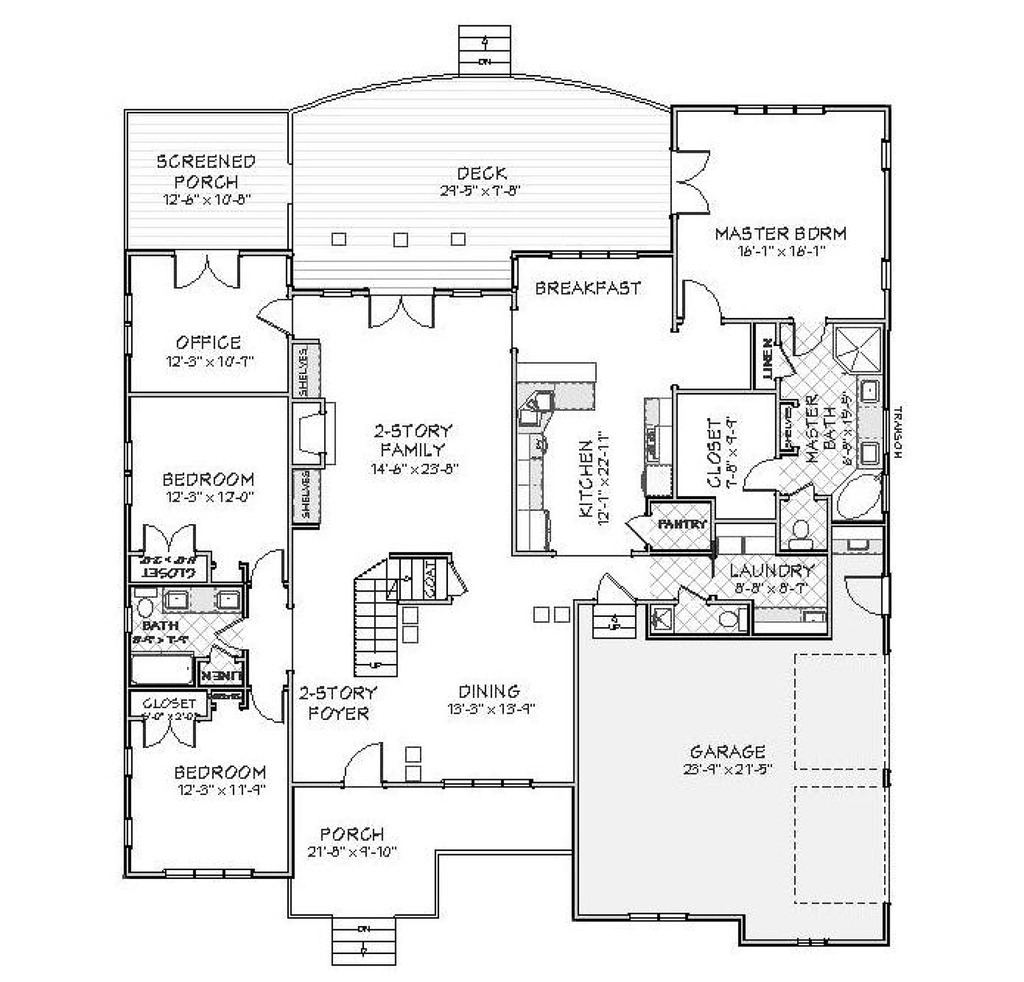door: (331, 729, 401, 796), (169, 239, 248, 298), (837, 569, 899, 621), (668, 150, 716, 215), (364, 288, 436, 331), (680, 274, 733, 330), (240, 682, 292, 733), (139, 518, 199, 562), (247, 540, 292, 596), (136, 712, 206, 746), (732, 458, 785, 499), (254, 294, 298, 343), (624, 505, 664, 557), (590, 572, 640, 605), (444, 558, 480, 602), (795, 311, 826, 358), (774, 341, 799, 382)
large_sink: (782, 520, 822, 551), (128, 586, 164, 617), (711, 608, 751, 634)
small_sink: (855, 374, 888, 469), (162, 589, 249, 614), (647, 600, 683, 636)
stairs: (346, 554, 432, 685), (446, 17, 520, 77), (319, 908, 398, 960), (593, 606, 638, 642)
twin_sink: (519, 386, 564, 436)
window: (544, 240, 640, 265), (434, 774, 543, 795), (155, 861, 259, 883), (124, 289, 143, 359), (874, 256, 904, 300), (618, 906, 693, 923), (731, 104, 829, 117), (113, 814, 141, 849), (122, 738, 141, 781), (123, 443, 135, 509), (878, 129, 893, 179), (795, 933, 832, 952)
